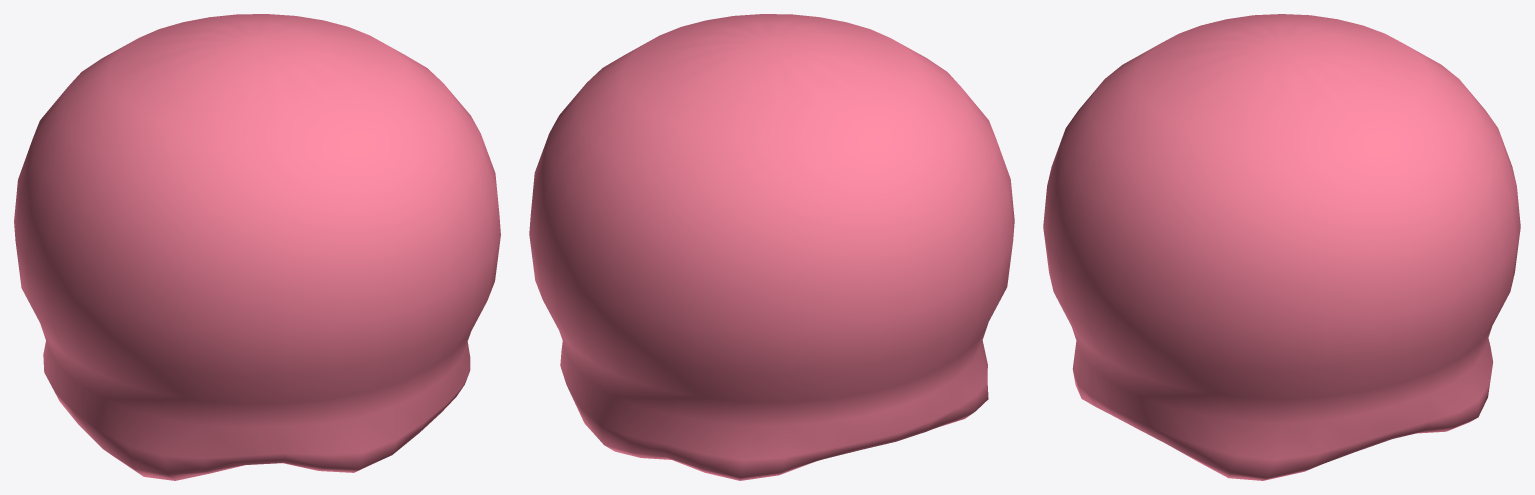
The model's file is Ice Cream Melted Pink.fbx.
The picture shows the model from 3 angles, left to right: view 1: azimuth 30°, elevation 25°; view 2: azimuth 150°, elevation 25°; view 3: azimuth 270°, elevation 25°; orthographic projection. The views are drawn at different scales.
Visible parts, largest first — view 1: Ice Cream Melted Pink; view 2: Ice Cream Melted Pink; view 3: Ice Cream Melted Pink.
Part boxes in pixels (x1,y1,x2,y2): Ice Cream Melted Pink: (14, 14, 500, 480); Ice Cream Melted Pink: (529, 14, 1014, 480); Ice Cream Melted Pink: (1043, 14, 1520, 480).
Bounding box in the file's own units: 0.4884 × 0.3979 × 0.4884.
